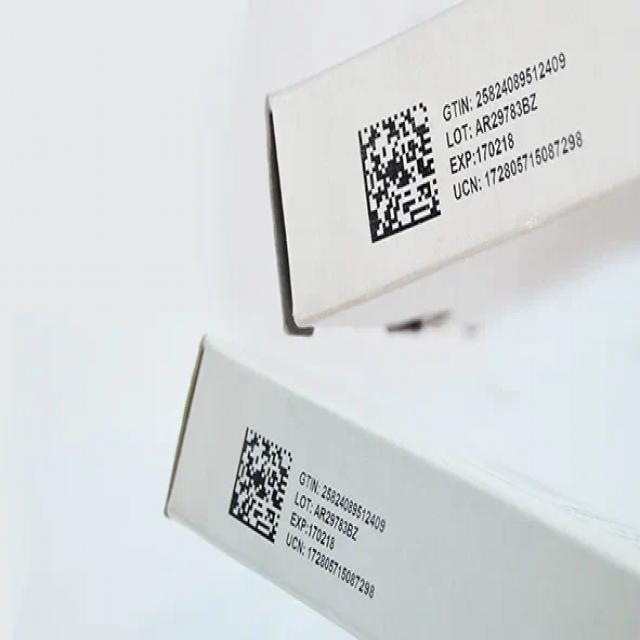datamatrix: (357, 102, 444, 244), (228, 426, 295, 545)
